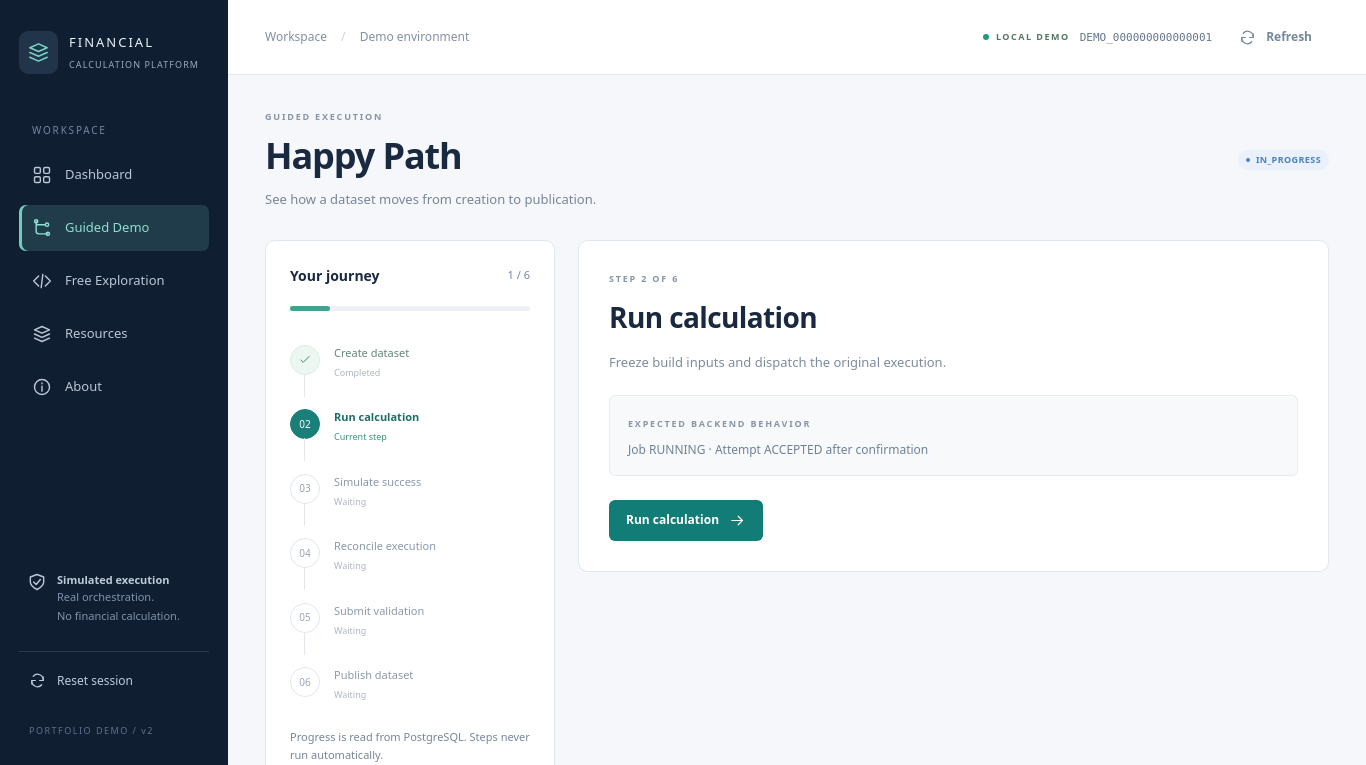
Test case: a stored old response never replaces newer durable Scenario GET progress
Click the button "Run calculation": (686, 521) [609,500,763,541]
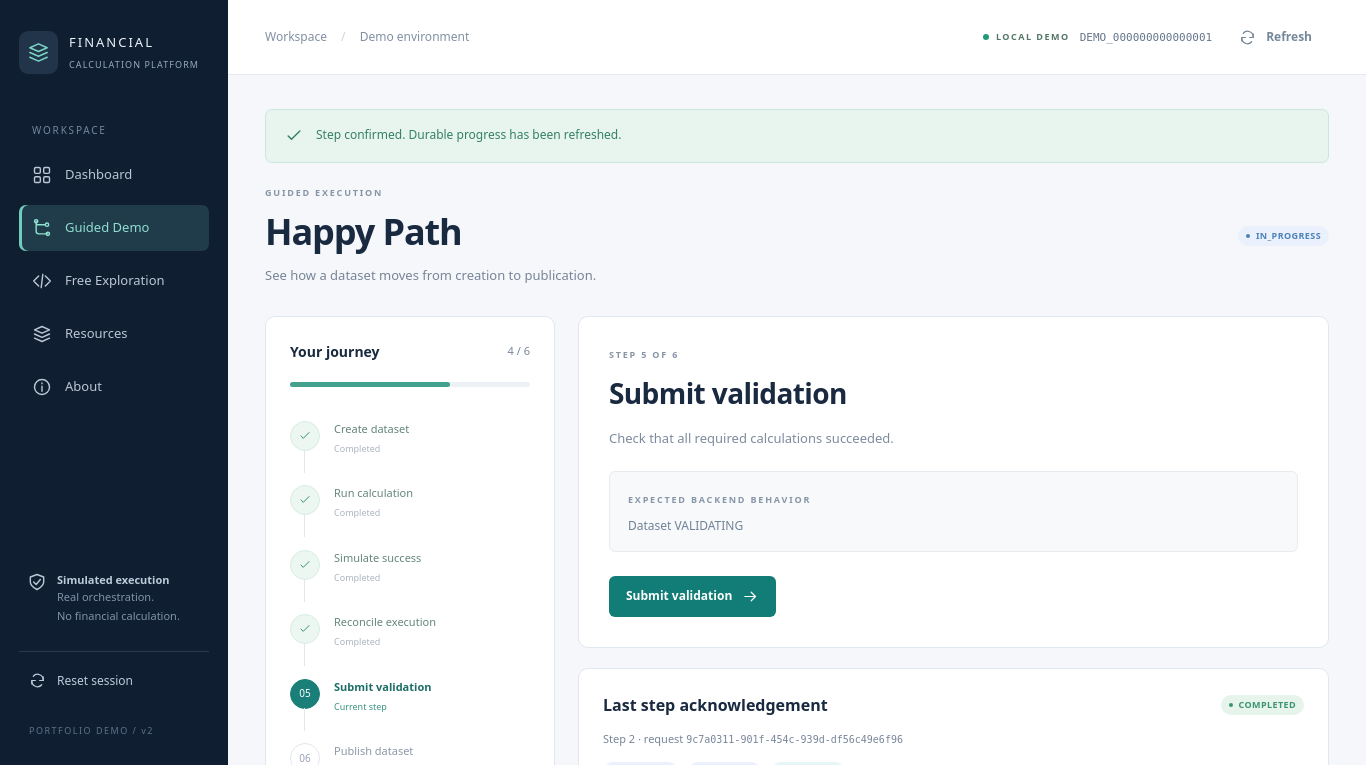
Now the button "Submit validation" is shown, box [609,576,776,617]
